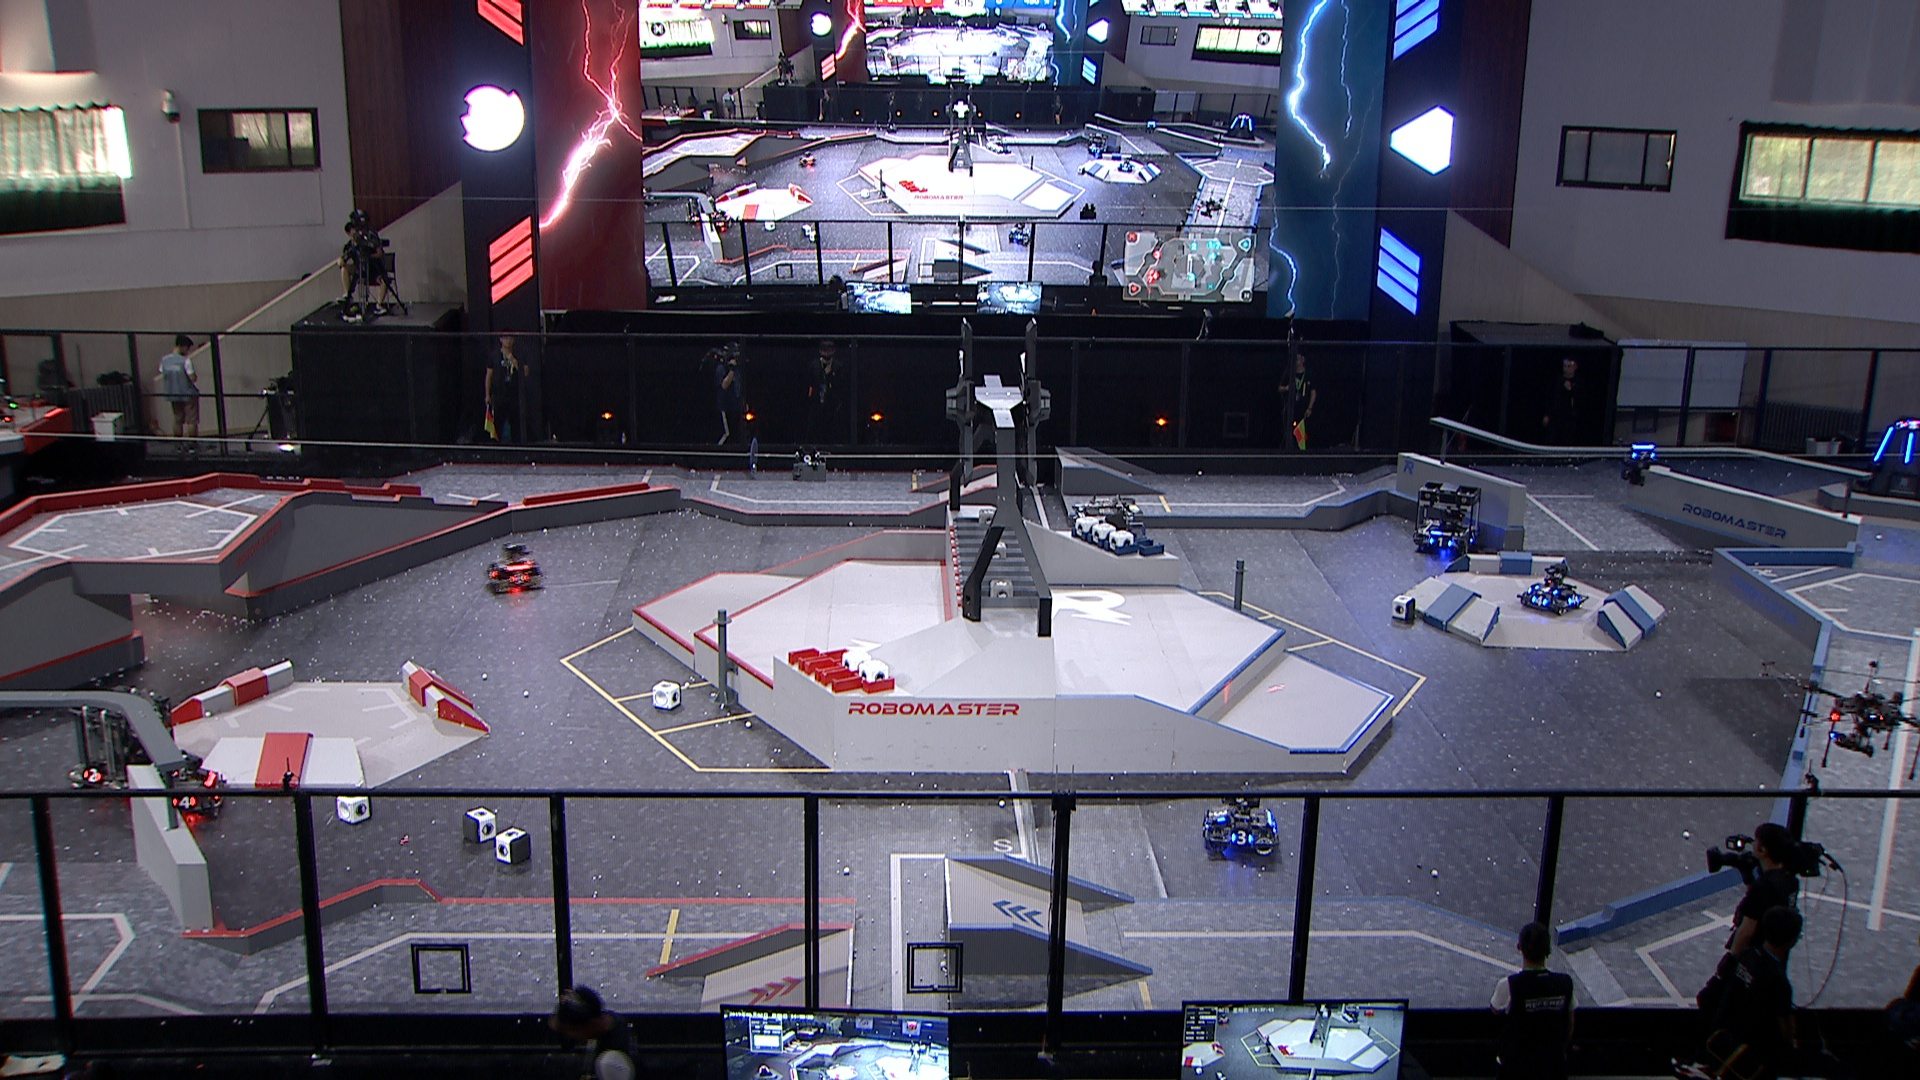armor: (1873, 427, 1898, 463), (1428, 534, 1453, 550), (1903, 433, 1915, 465), (80, 767, 103, 785), (1232, 829, 1254, 847), (1534, 583, 1557, 597), (1528, 595, 1551, 609), (508, 572, 531, 585), (171, 796, 196, 808), (1633, 450, 1658, 462), (1215, 807, 1230, 825), (1466, 529, 1482, 545), (485, 564, 500, 580), (1567, 593, 1580, 607)
base: (1851, 418, 1920, 502)
car: (65, 684, 179, 799), (1065, 496, 1154, 585), (1414, 479, 1482, 560), (154, 752, 225, 822), (1203, 794, 1278, 856), (1518, 562, 1590, 618), (483, 542, 542, 593)
ignore: (684, 190, 717, 224), (1226, 113, 1255, 138), (1007, 219, 1034, 245), (1084, 131, 1109, 156), (713, 208, 735, 233), (641, 186, 661, 210), (796, 148, 818, 167), (1898, 418, 1920, 433), (1145, 119, 1158, 135), (1120, 161, 1135, 174)
watcher: (1618, 443, 1659, 488)
